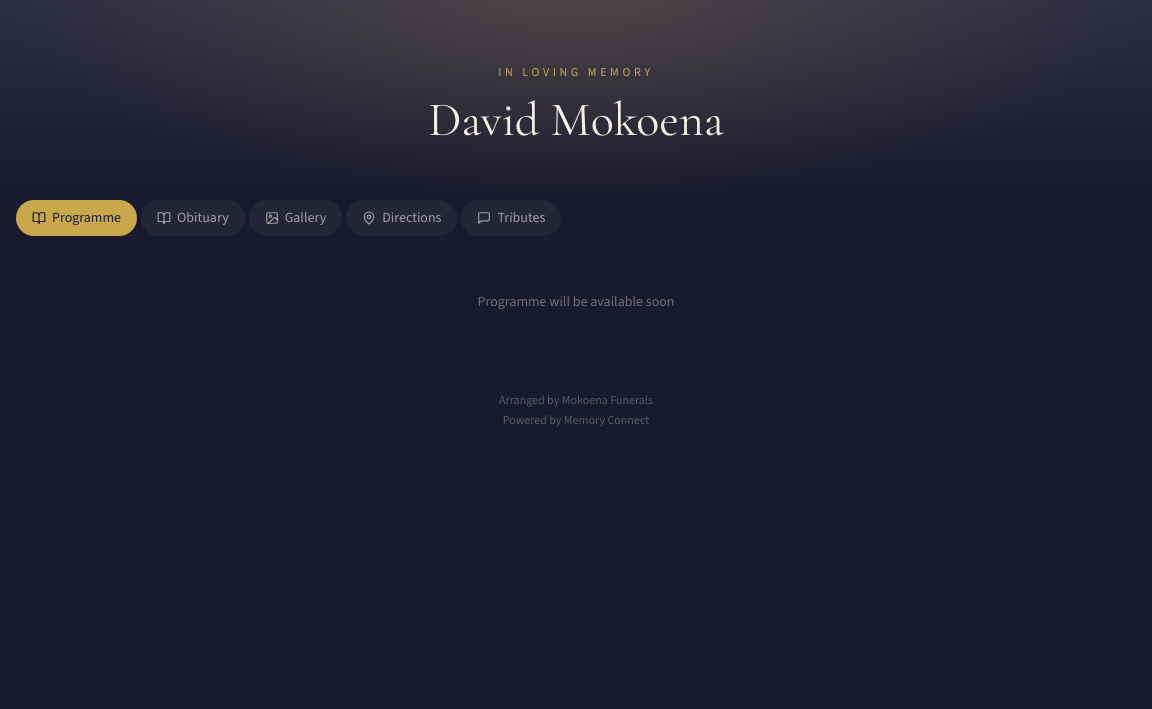
Test: MemorialPage › shows multiple saved location pins in display order
This screenshot has width=1152, height=709.
What coordinates should you click on to do the following:
click the button "Directions"
I would click on:
 (402, 218)
Its box is [346,200,458,236].
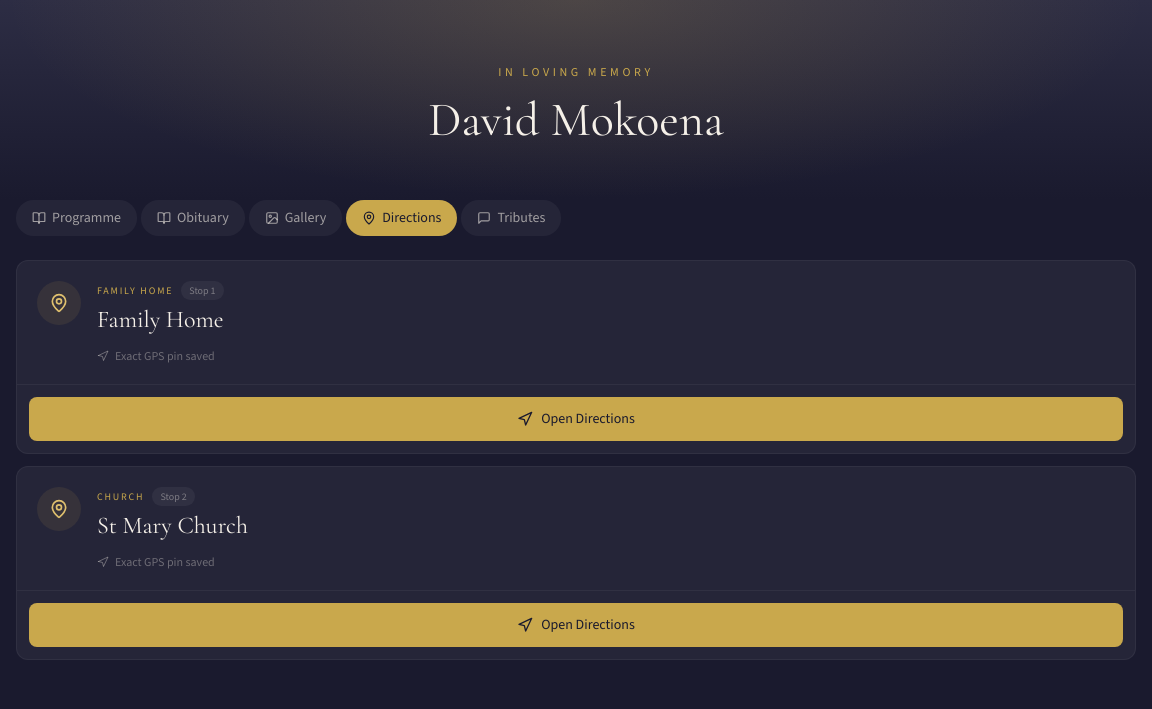
Check: the heading "Family Home" is shown, box [97,305,224,334]
Check: the heading "St Mary Church" is shown, box [97,511,248,540]
Check: the number of links "Open Directions" is 2, box [29,397,1123,441]; [29,603,1123,647]
